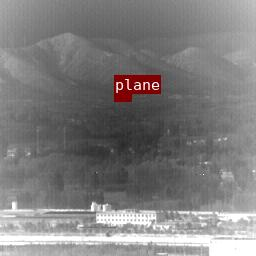plane: (114, 94, 131, 101)
